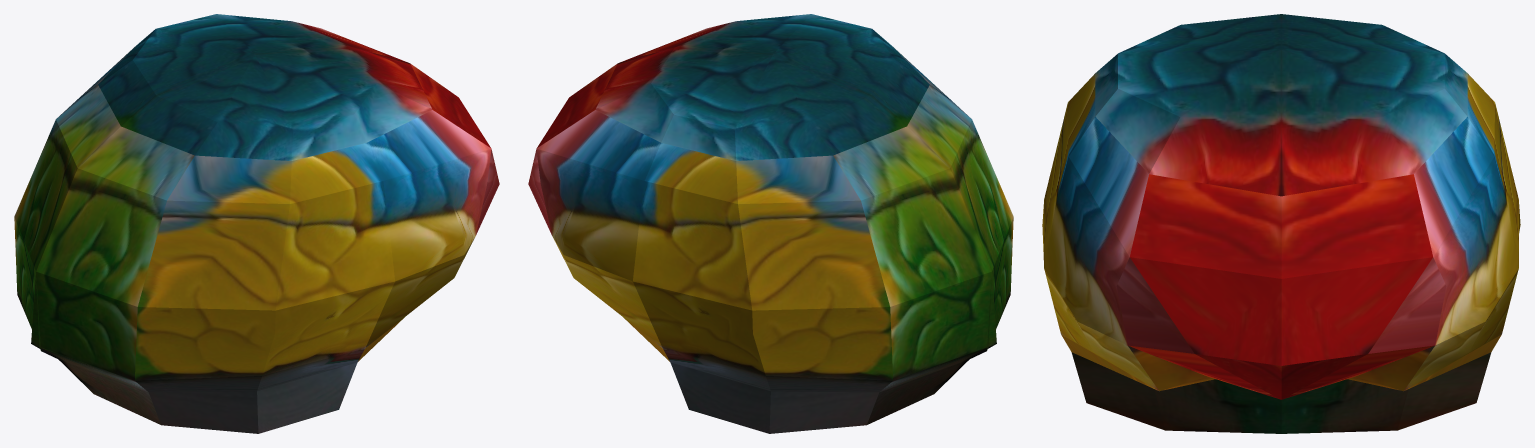
Rendered from brainV6.obj.
3 renders of one model, left to right at view 1: azimuth 30°, elevation 25°; view 2: azimuth 150°, elevation 25°; view 3: azimuth 270°, elevation 25°, orthographic. The views are drawn at different scales.
Parts seen in each view (by area): view 1: polySurface1; view 2: polySurface1; view 3: polySurface1.
Part boxes in pixels (x1,y1,x2,y2): polySurface1: (14, 14, 499, 433); polySurface1: (528, 14, 1013, 433); polySurface1: (1042, 14, 1520, 433).
Bounding box in the file's own units: 16.97 × 11.94 × 13.15.
Materials: 7 (7 with a texture image).
